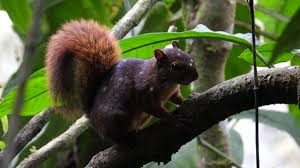Ardilla: (99, 40, 208, 119)
